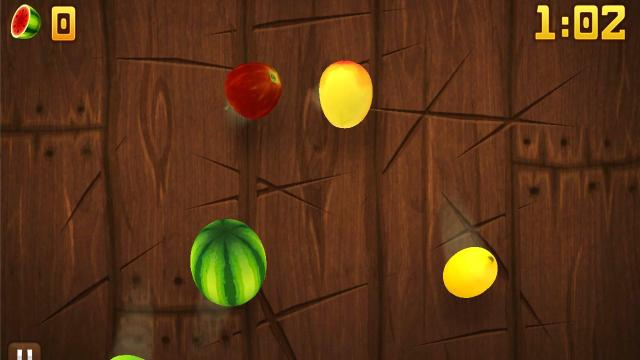fruit: (190, 218, 268, 306), (318, 60, 374, 128), (224, 61, 282, 119), (442, 246, 498, 298), (108, 354, 146, 360)
ignore: (10, 4, 42, 40)
